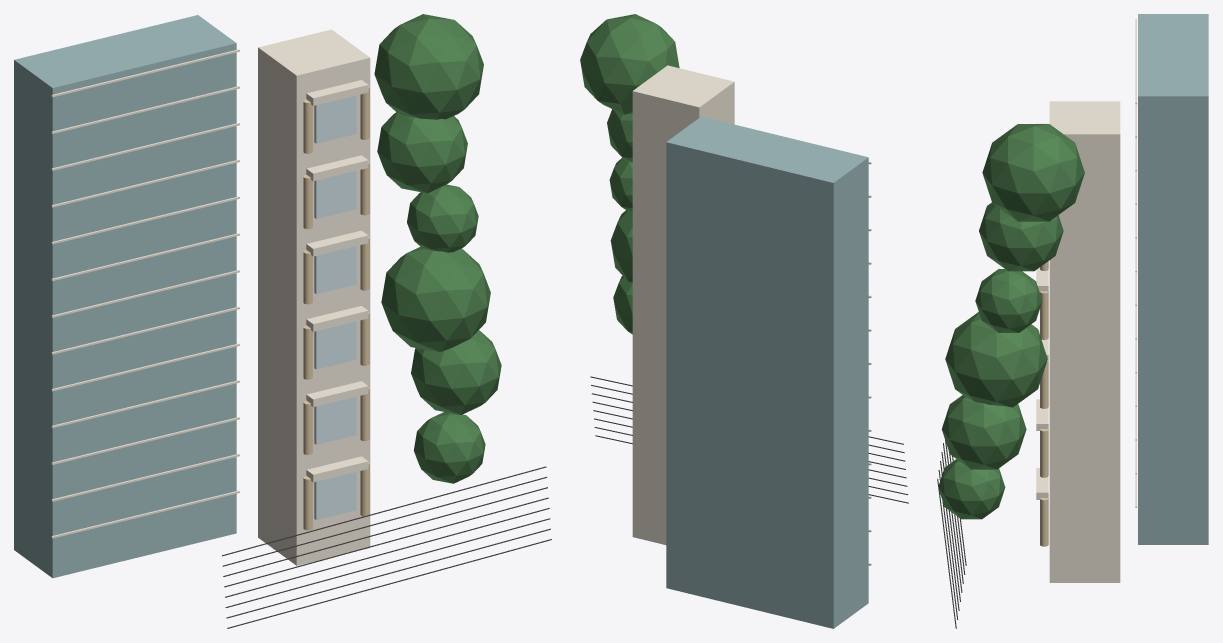
The model's file is unpad-building-pov.glb.
3 renders of one model, left to right at view 1: azimuth 30°, elevation 25°; view 2: azimuth 150°, elevation 25°; view 3: azimuth 270°, elevation 25°, orthographic. The views are drawn at different scales.
Parts seen in each view (by area): view 1: Building_GlassCurtainWall, Building_MainTower, TreeFoliage_5, TreeFoliage_2, TreeFoliage_4, TreeFoliage_1, TreeFoliage_0, TreeFoliage_3, Window_Floor_1, Window_Floor_2, Window_Floor_5, Window_Floor_3 (+8 smaller); view 2: Building_GlassCurtainWall, Building_MainTower, TreeFoliage_5, TreeFoliage_2, TreeFoliage_4, TreeFoliage_3, TreeFoliage_1; view 3: Building_GlassCurtainWall, Building_MainTower, TreeFoliage_5, TreeFoliage_2, TreeFoliage_1, TreeFoliage_4, TreeFoliage_3, TreeFoliage_0, Column_Right_1, Column_Right_0, Column_Right_3.
Part boxes in pixels (<box>): Building_GlassCurtainWall: <box>14,15,236,578</box>; Building_MainTower: <box>258,29,370,565</box>; TreeFoliage_5: <box>374,14,483,119</box>; TreeFoliage_2: <box>381,247,490,351</box>; TreeFoliage_4: <box>377,112,467,193</box>; TreeFoliage_1: <box>411,330,501,414</box>; TreeFoliage_0: <box>413,412,485,483</box>; TreeFoliage_3: <box>407,184,478,252</box>; Window_Floor_1: <box>314,396,356,444</box>; Window_Floor_2: <box>314,321,356,369</box>; Window_Floor_5: <box>314,95,356,143</box>; Window_Floor_3: <box>314,246,356,294</box>; Building_GlassCurtainWall: <box>666,116,868,628</box>; Building_MainTower: <box>632,65,734,544</box>; TreeFoliage_5: <box>580,14,679,114</box>; TreeFoliage_2: <box>610,210,632,284</box>; TreeFoliage_4: <box>607,109,632,162</box>; TreeFoliage_3: <box>609,157,632,212</box>; TreeFoliage_1: <box>613,275,632,334</box>; Building_GlassCurtainWall: <box>1138,14,1208,544</box>; Building_MainTower: <box>1049,101,1120,582</box>; TreeFoliage_5: <box>982,124,1084,221</box>; TreeFoliage_2: <box>945,312,1047,407</box>; TreeFoliage_1: <box>941,395,1026,469</box>; TreeFoliage_4: <box>979,202,1063,271</box>; TreeFoliage_3: <box>975,269,1042,332</box>; TreeFoliage_0: <box>938,459,1005,519</box>; Column_Right_1: <box>1040,429,1048,477</box>; Column_Right_0: <box>1040,498,1048,546</box>; Column_Right_3: <box>1040,291,1048,339</box>.
Size of the model in its own units: 11.99 by 14.95 by 7.68.
